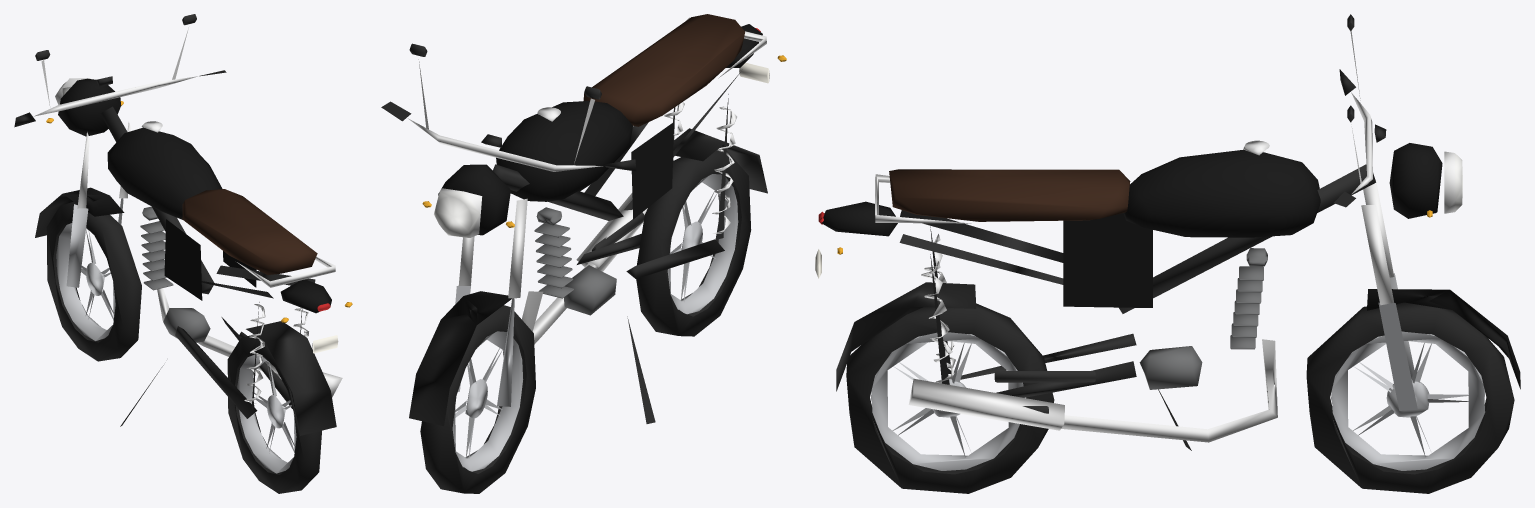
The model's file is bike_0_lo.glb.
3 renders of one model, left to right at view 1: azimuth 30°, elevation 25°; view 2: azimuth 150°, elevation 25°; view 3: azimuth 270°, elevation 25°, orthographic. The views are drawn at different scales.
Parts seen in each view (by area): view 1: body, wheel_0, wheel_1; view 2: body, wheel_1, wheel_0; view 3: body, wheel_0, wheel_1.
Part boxes in pixels (box(x1,y1,x2,y2)): body: box(14, 14, 352, 435); wheel_0: box(46, 201, 141, 361); wheel_1: box(227, 334, 321, 493); body: box(381, 14, 786, 426); wheel_1: box(636, 148, 751, 336); wheel_0: box(420, 305, 535, 493); body: box(815, 14, 1520, 450); wheel_0: box(1306, 302, 1514, 493); wheel_1: box(846, 303, 1054, 493).
Bounding box in the file's own units: 0.8685 × 1.31 × 1.96.
